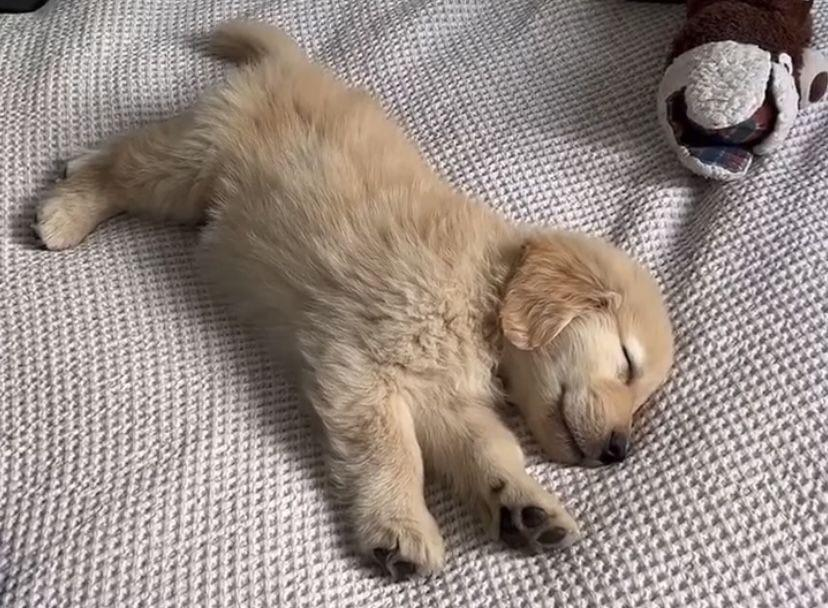puppy-dog: (27, 13, 676, 583)
